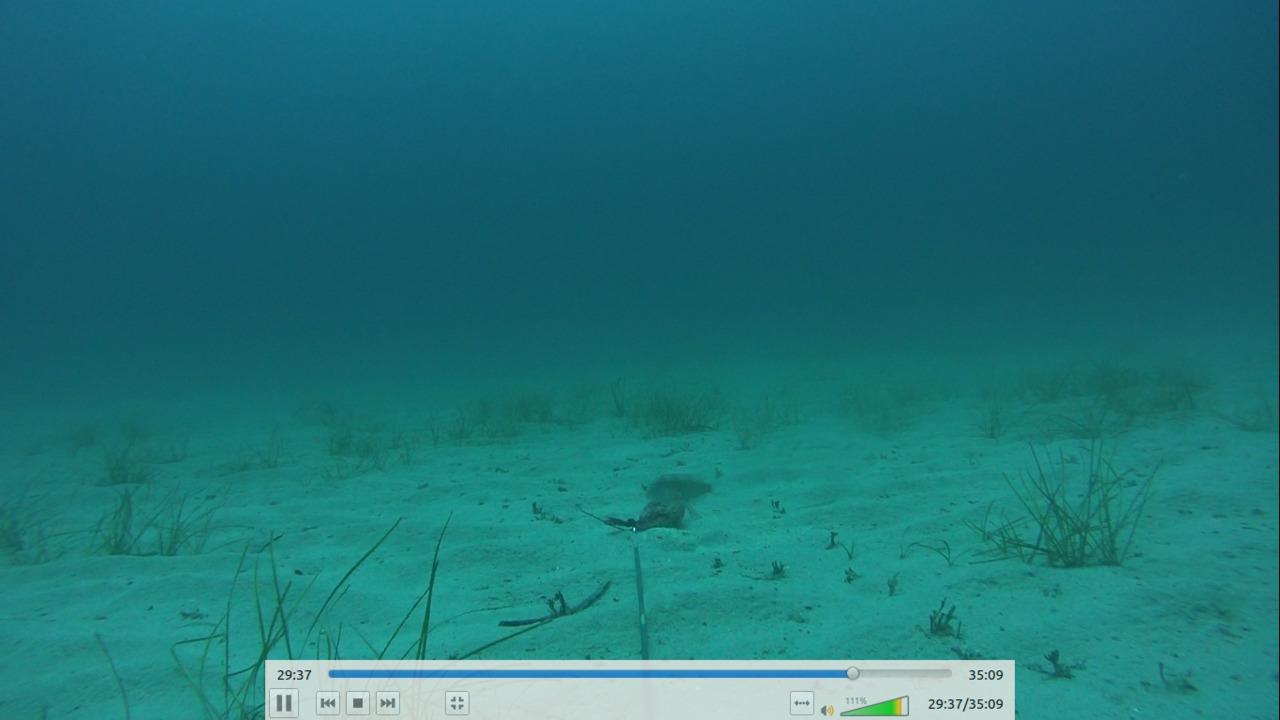raor: (642, 468, 712, 505)
